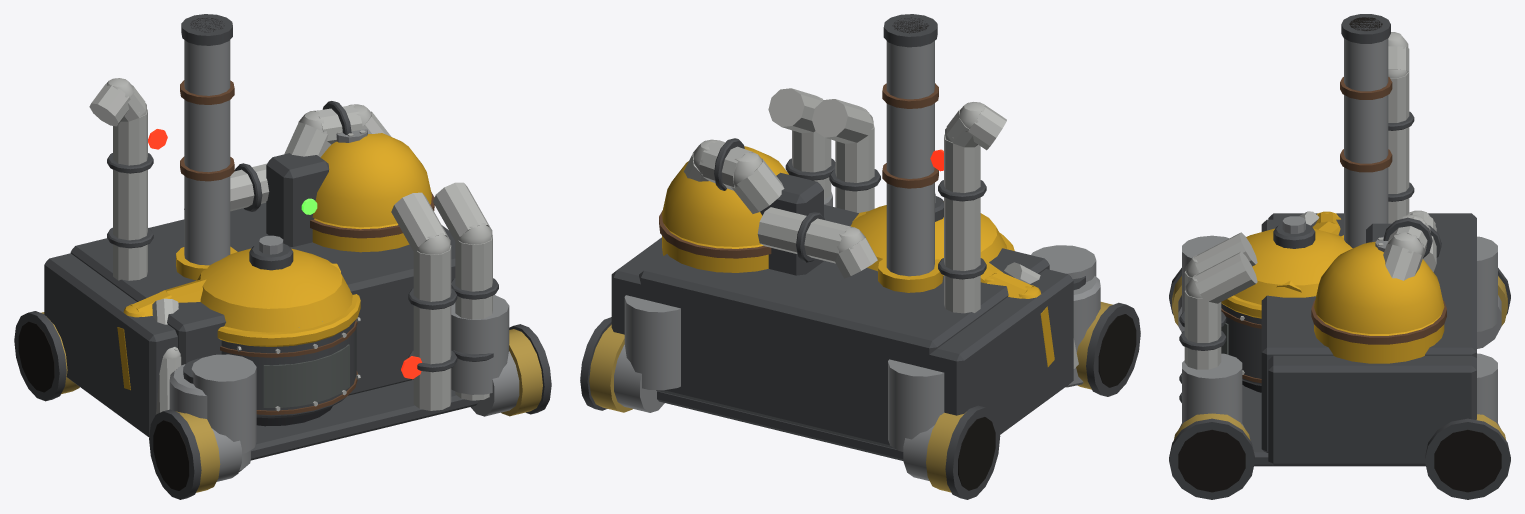
File: chemical-plant-west.glb
The picture shows the model from 3 angles, left to right: view 1: azimuth 30°, elevation 25°; view 2: azimuth 150°, elevation 25°; view 3: azimuth 270°, elevation 25°; orthographic projection. The views are drawn at different scales.
Parts seen in each view (by area): view 1: body; view 2: body; view 3: body.
Boxes of the visible parts, x1,y1,x2,y2 form: body: (14, 14, 551, 499); body: (580, 14, 1140, 499); body: (1169, 14, 1510, 499).
Size of the model in its own units: 3.01 by 3.08 by 2.62.
